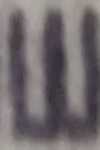SH_RUS: (0, 0, 99, 149)
